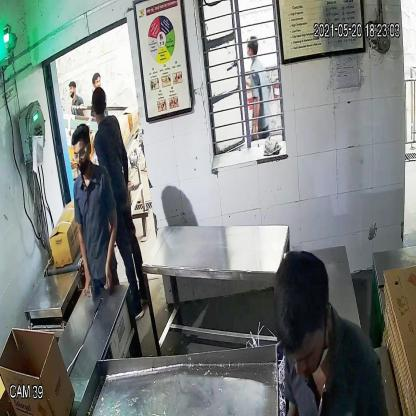goggles: (72, 146, 90, 163)
